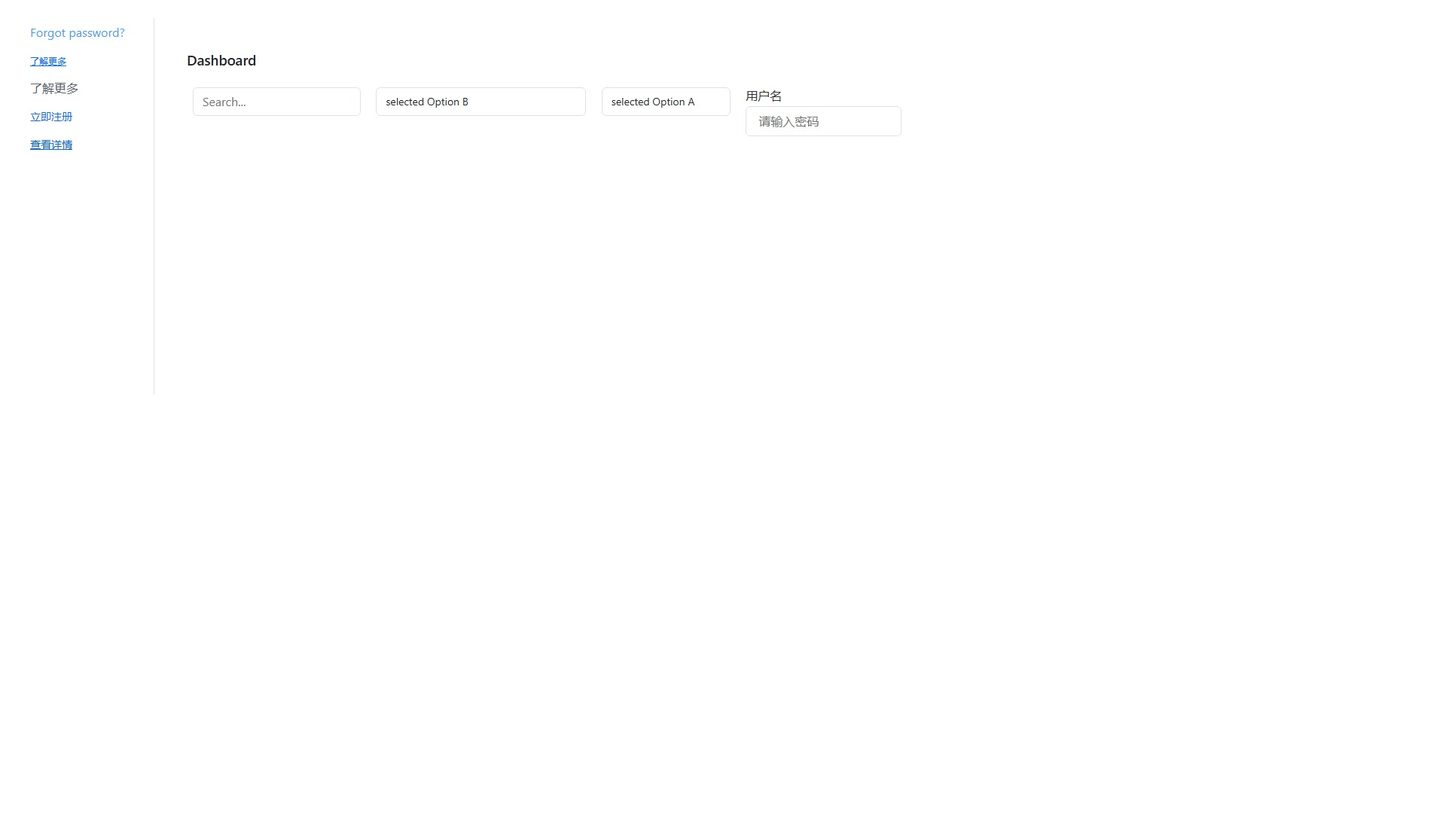input: (193, 87, 361, 116), (746, 106, 902, 136)
link: (30, 24, 125, 40), (30, 80, 78, 96), (30, 109, 72, 123), (30, 137, 72, 151), (30, 55, 66, 67)
select: (376, 87, 586, 116), (602, 87, 730, 116)
